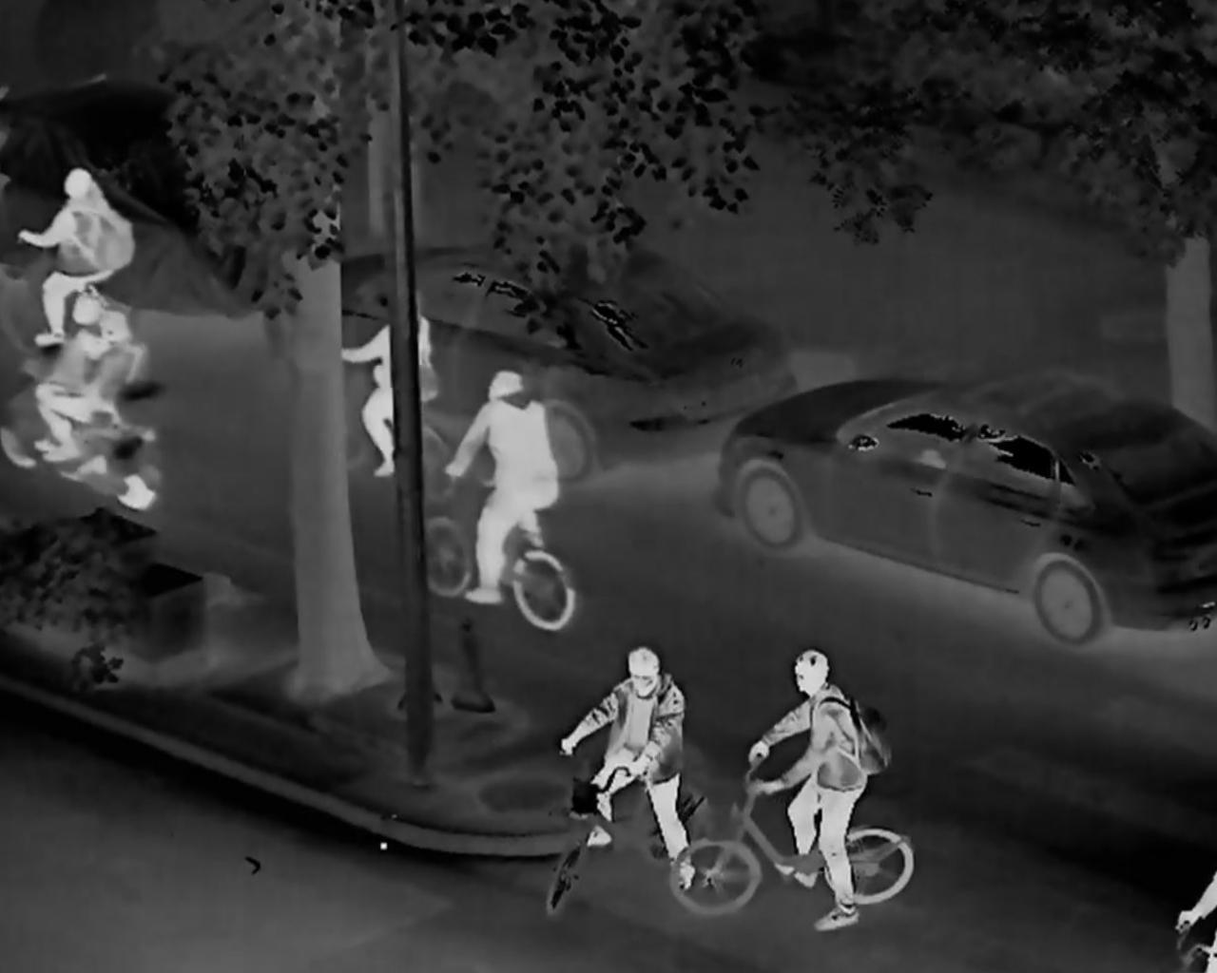person: (749, 644, 876, 946), (556, 639, 700, 889), (447, 349, 570, 622), (341, 282, 450, 483), (58, 296, 153, 490), (28, 164, 126, 332)
